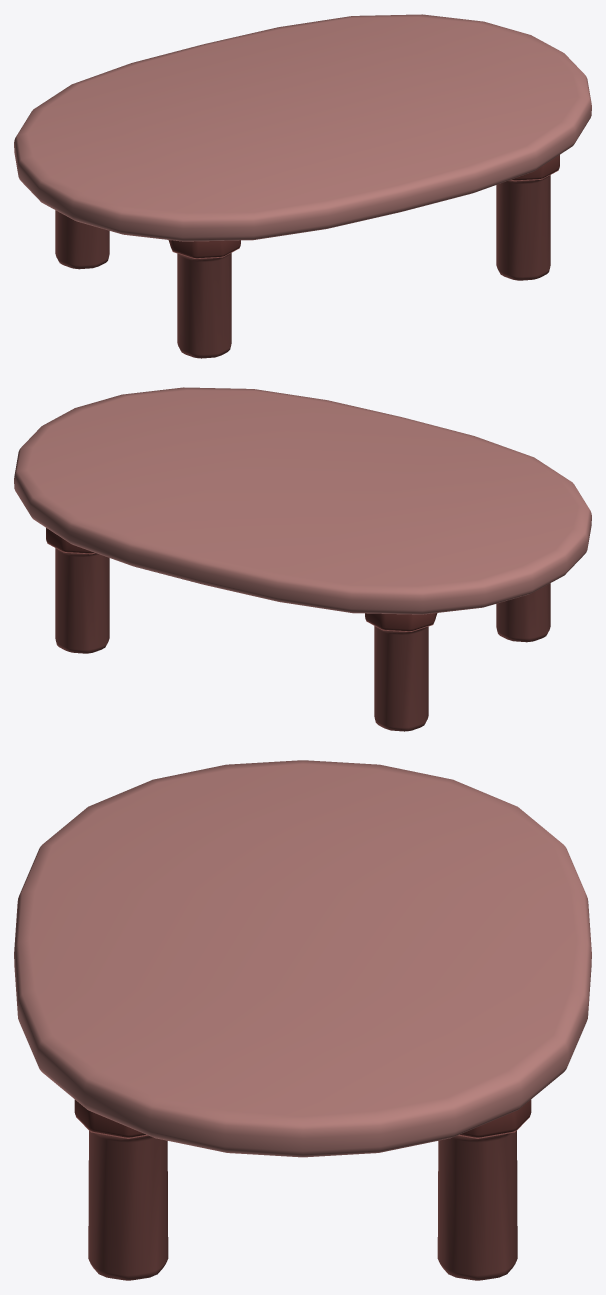
File: 3d_Table.fbx
3 views of the same model, one above another, from view 1: azimuth 30°, elevation 25°; view 2: azimuth 150°, elevation 25°; view 3: azimuth 270°, elevation 25° (orthographic). The views are drawn at different scales.
Visible parts, largest first — view 1: 3d_Table; view 2: 3d_Table; view 3: 3d_Table.
Boxes of the visible parts, box(x1,y1,x2,y2) form: 3d_Table: box(14, 14, 591, 358); 3d_Table: box(14, 387, 591, 731); 3d_Table: box(14, 760, 591, 1280).
Bounding box in the file's own units: 1.55 × 0.4237 × 1.03.
